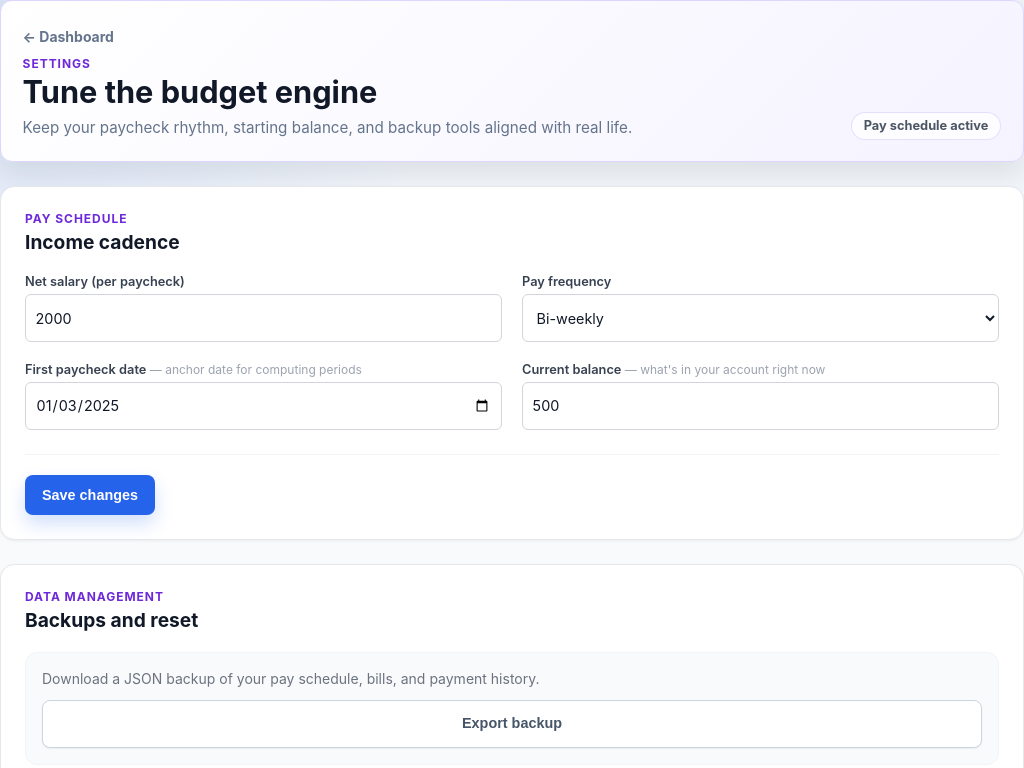
Test case: SettingsPage › shows saved confirmation after a successful save
Click the button "Save changes" at (90, 495), box [25, 475, 155, 515]
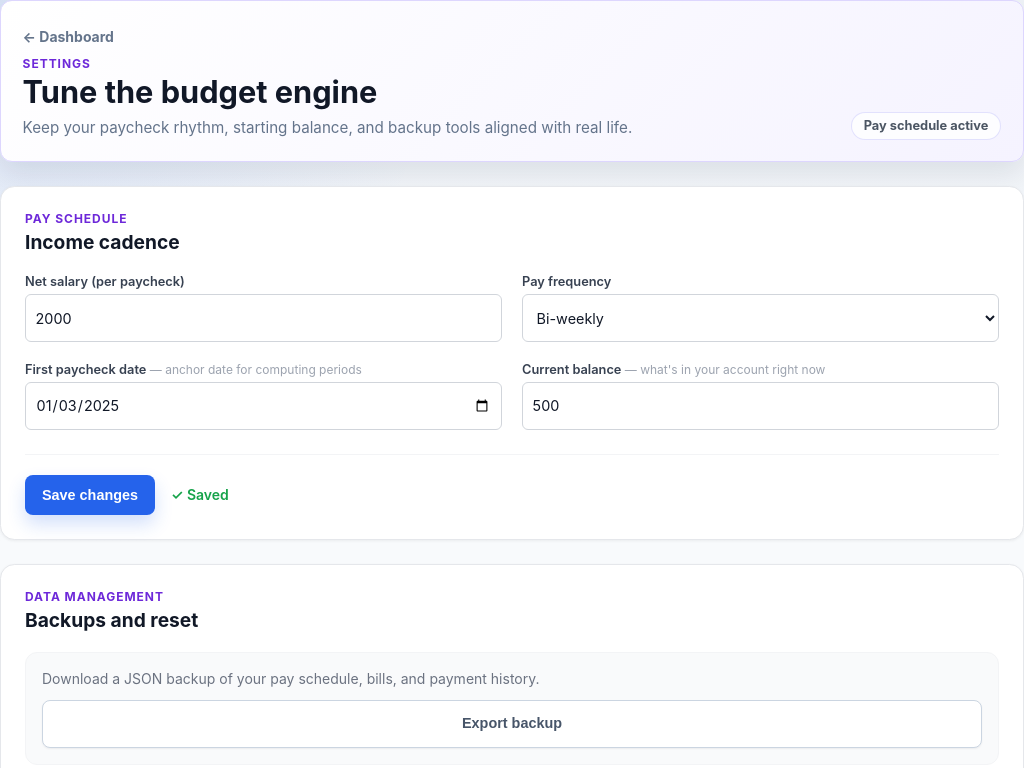
Result: the text "✓ Saved" is shown at [171, 486, 229, 504]
